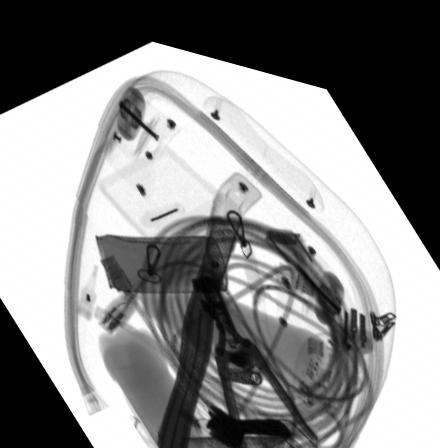Pliers: (189, 264, 320, 448)
Wrench: (206, 394, 289, 438)
